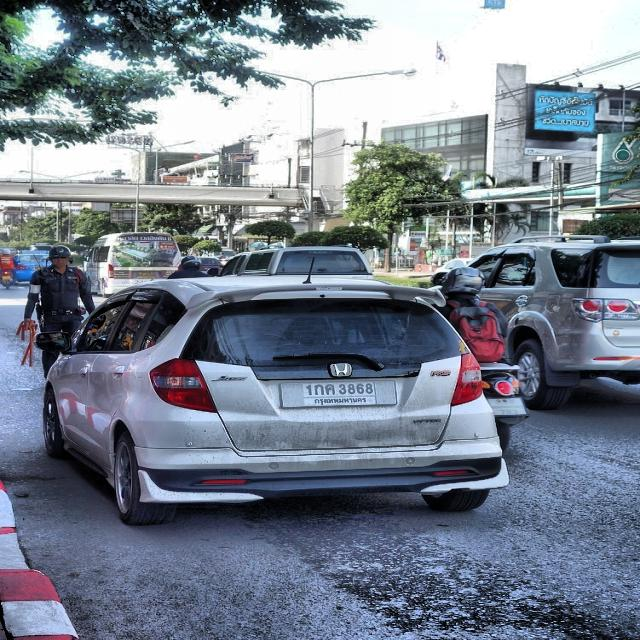lisence_plate: (278, 379, 398, 408)
